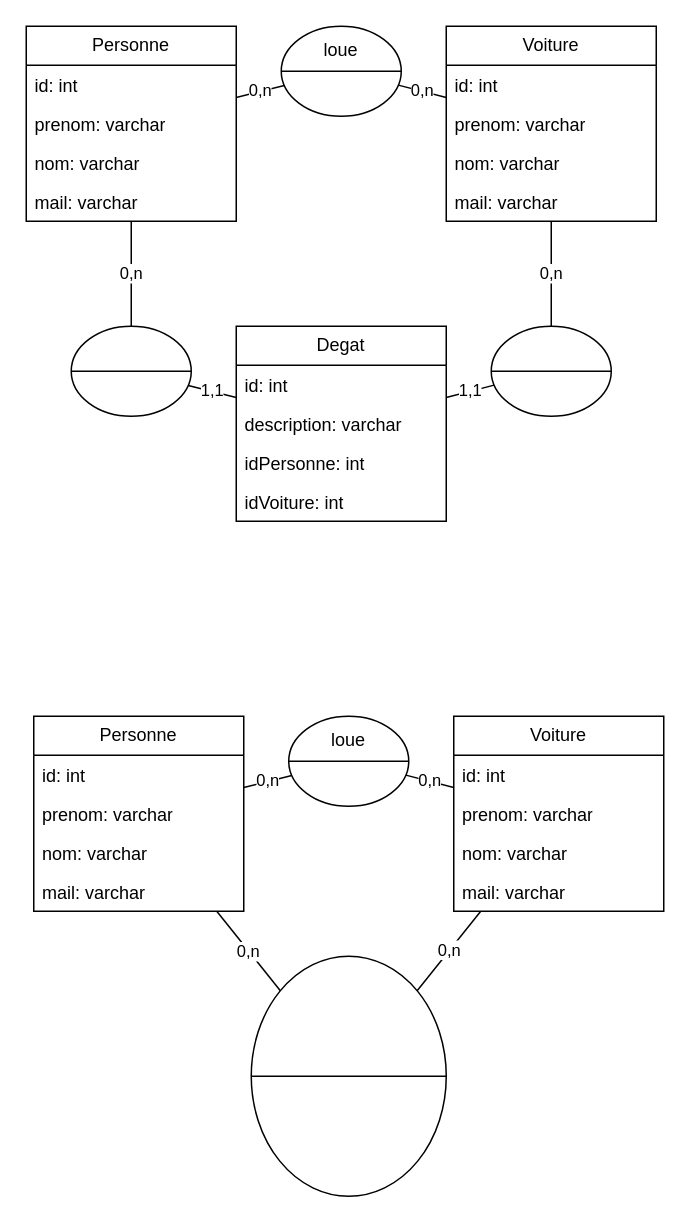
The diagram is 690 pixels wide and 1223 high, and some of its shapes have lost their labels. The shapes that lost their labels are listed below. From the top down, each one's centre as x and y in pixels, then its label:
the point at 130,370: constate
the point at 550,370: subit
the point at 348,1075: note de degat id: int description: varchar idPersonne: int idVoiture: int
